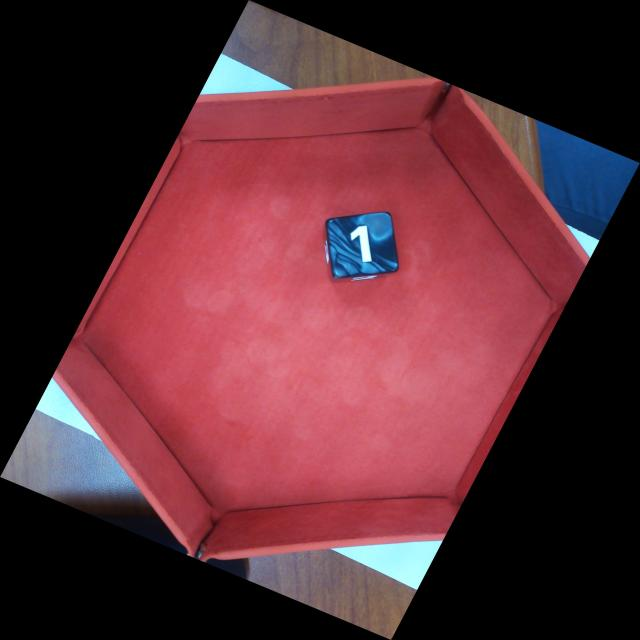dice: (324, 211, 400, 280)
